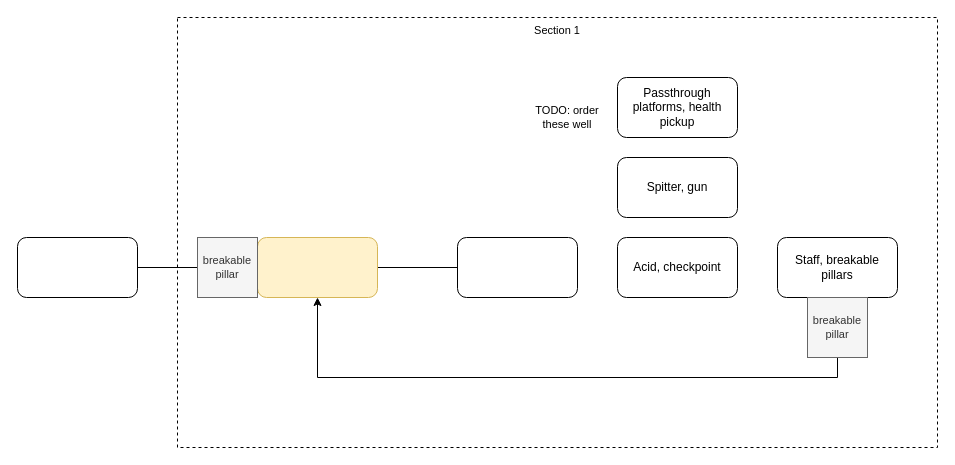
Image size: 955x465. Some labels were removed from this diagram. Here are the shapes that lost their labels. From the top down, the centre of each, then its label:
point 77,267: key, end door
point 317,267: Start
point 517,267: Spike, Chomper
